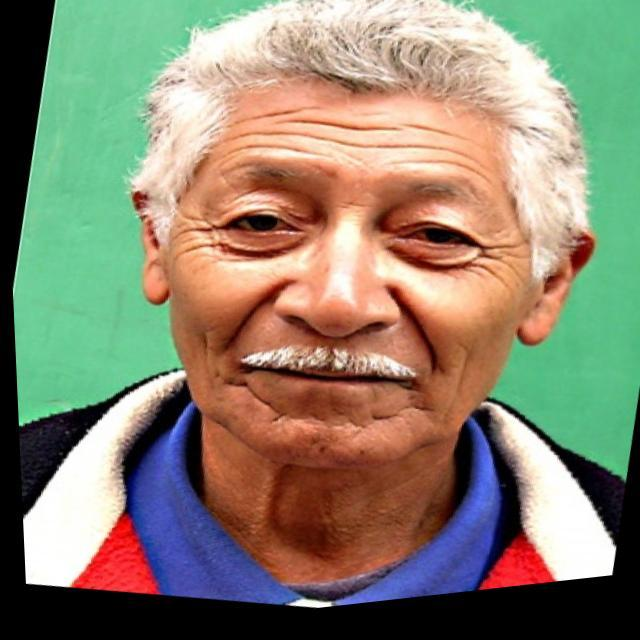Nonhelmet: (118, 0, 604, 482)
